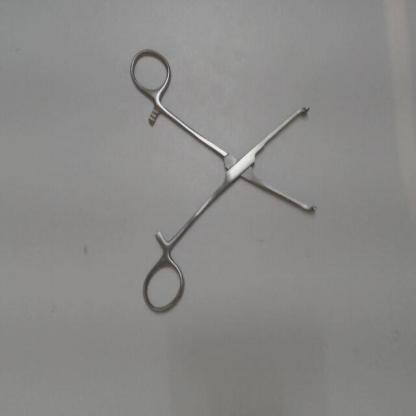Allis Tissue Forceps: (125, 44, 323, 318)
